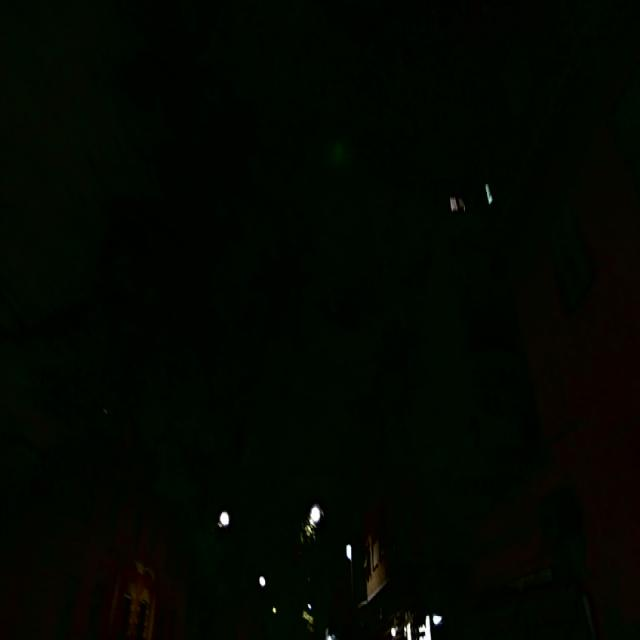lampione: (251, 560, 276, 603), (303, 492, 326, 533), (338, 531, 360, 571), (265, 591, 283, 629), (215, 502, 234, 534)
